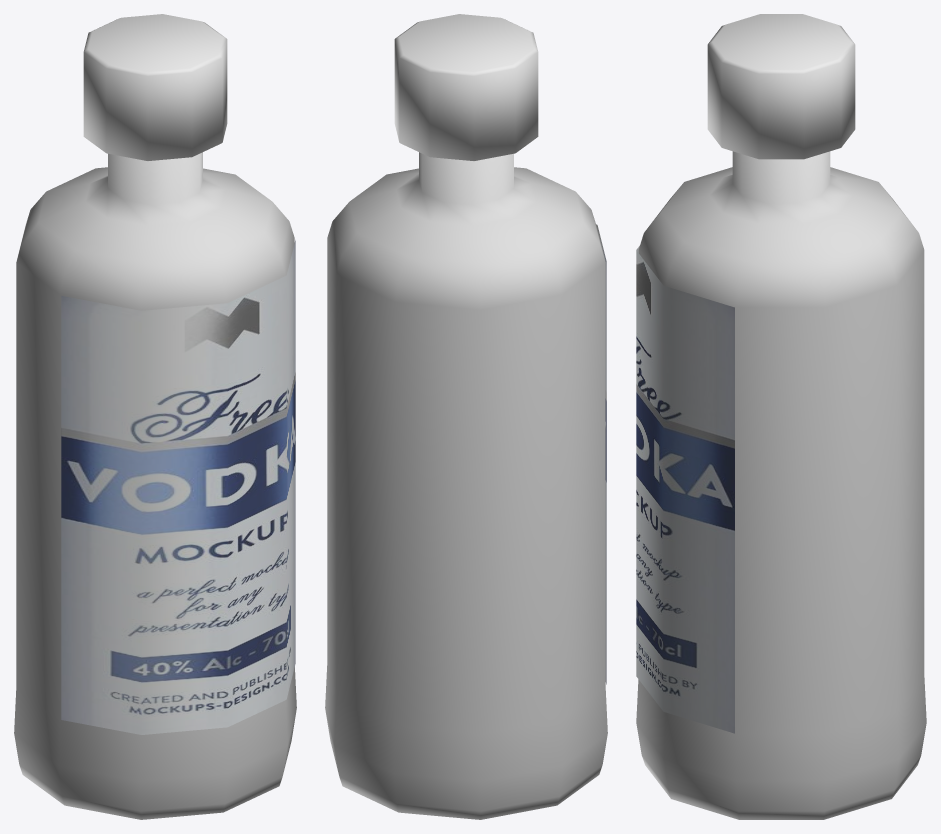
Rendered from bottle_vodka_labeled.fbx.
3 views of the same model, side by side, from view 1: azimuth 30°, elevation 25°; view 2: azimuth 150°, elevation 25°; view 3: azimuth 270°, elevation 25° (orthographic).
Visible parts, largest first — view 1: Label, Bottle, Cork; view 2: Bottle, Cork, Label; view 3: Bottle, Label, Cork.
Boxes of the visible parts, x1,y1,x2,y2 form: Label: (61,240,295,734); Bottle: (14,152,296,819); Cork: (83,14,227,160); Bottle: (325,152,607,819); Cork: (394,14,538,160); Label: (596,224,606,684); Bottle: (636,151,926,819); Label: (636,245,734,733); Cork: (707,14,855,159).
Size of the model in its own units: 40.5 by 117 by 42.58.
